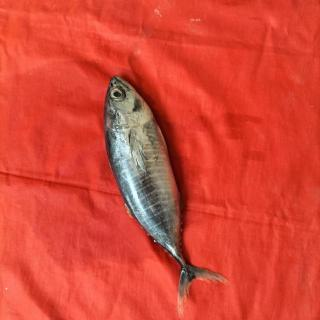Ikan: (95, 69, 240, 315)
